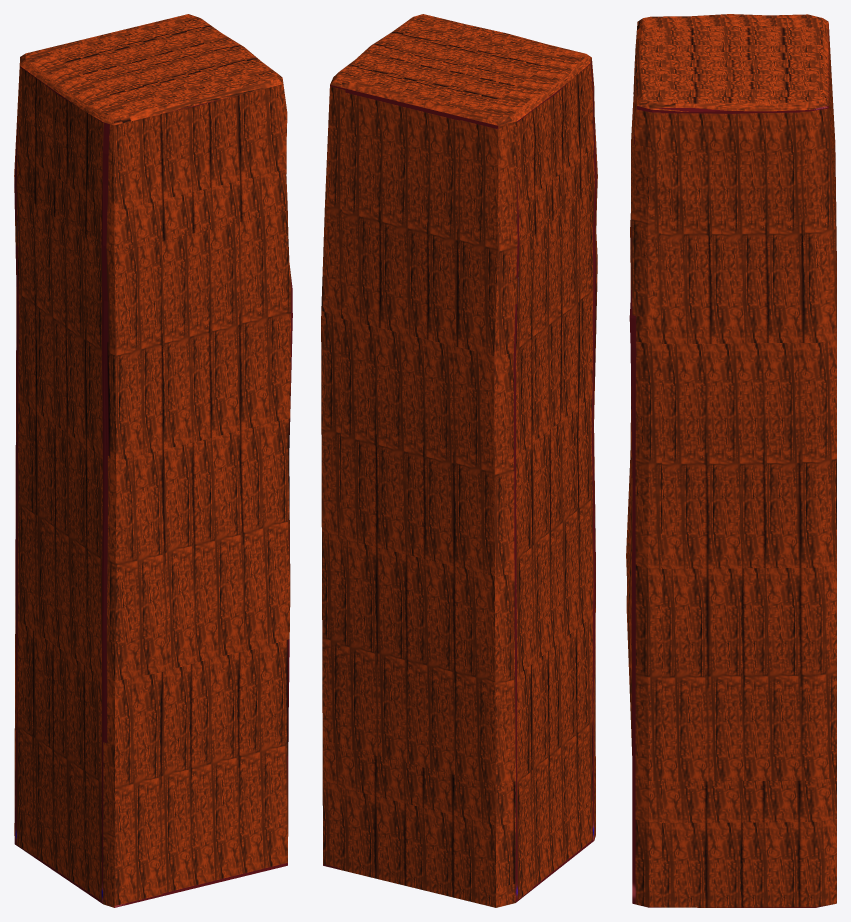
Rendered from sleeper_pole_post.fbx.
3 views of the same model, side by side, from view 1: azimuth 30°, elevation 25°; view 2: azimuth 150°, elevation 25°; view 3: azimuth 270°, elevation 25° (orthographic). The views are drawn at different scales.
Parts seen in each view (by area): view 1: ASquare.Tris; view 2: ASquare.Tris; view 3: ASquare.Tris.
Part boxes in pixels (x1,y1,x2,y2): ASquare.Tris: (14,14,292,907); ASquare.Tris: (321,14,597,907); ASquare.Tris: (626,14,836,907).
Size of the model in its own units: 224 by 867 by 206.
Materials: 1 (1 with a texture image).
